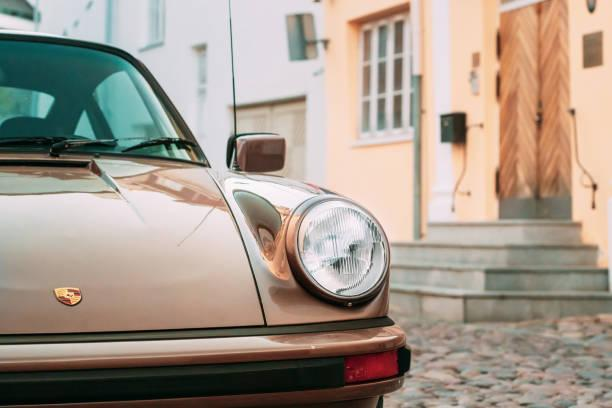porsche: (48, 283, 95, 311)
